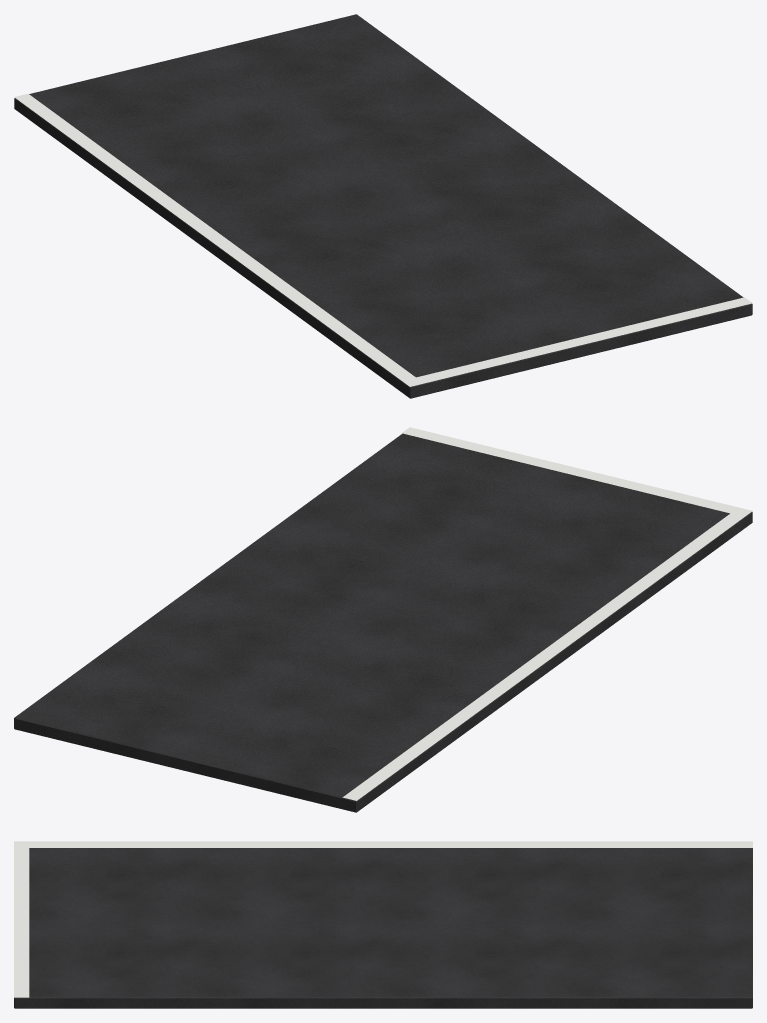
The model's file is parking_space.glb.
3 renders of one model, top to bottom at view 1: azimuth 30°, elevation 25°; view 2: azimuth 150°, elevation 25°; view 3: azimuth 270°, elevation 25°, orthographic. The views are drawn at different scales.
Visible parts, largest first — view 1: parking_space.001; view 2: parking_space.001; view 3: parking_space.001.
Part boxes in pixels (<box>): parking_space.001: <box>14,14,752,398</box>; parking_space.001: <box>14,427,752,812</box>; parking_space.001: <box>14,841,752,1008</box>.
Size of what is drawn, in the model's own units: 2.4 by 0.082 by 4.8.
Materials: 2 (1 with a texture image).
